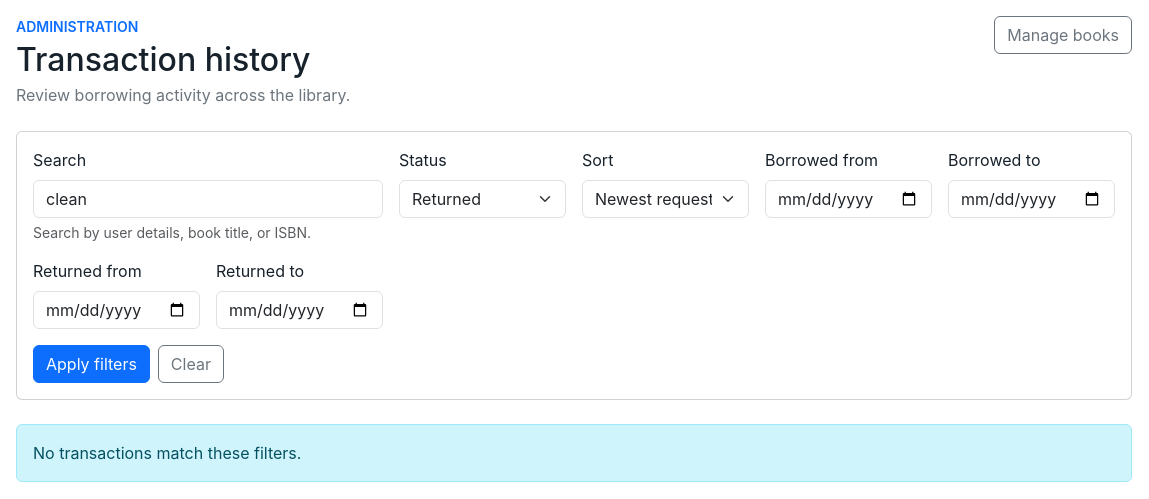
Test: AdminTransactionsComponent › clears loaded filters in both the form and the URL
The image size is (1149, 499).
Click the button "Clear". click: (191, 364)
box: [158,345,224,383]
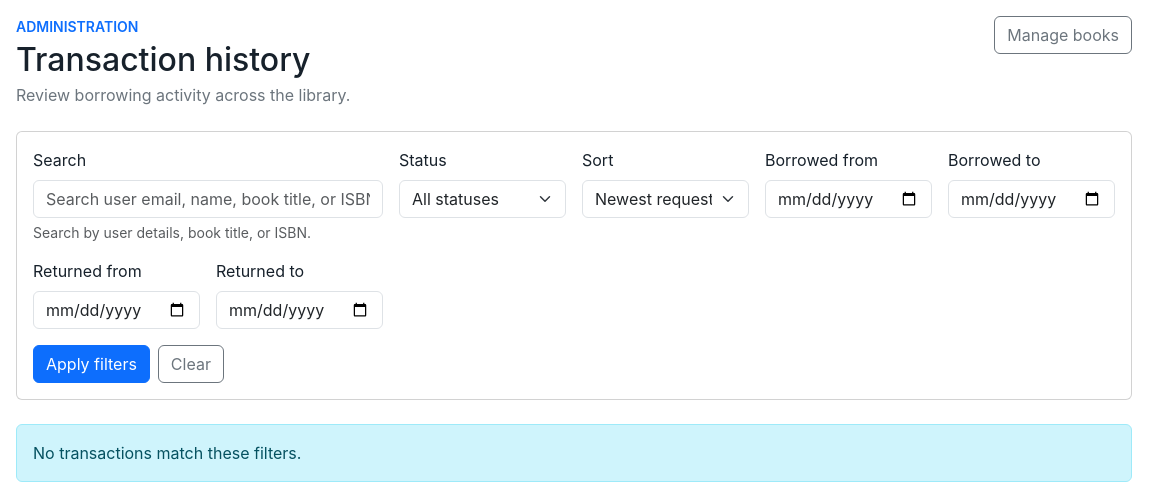
Now the dropdown with id "status" shows "All statuses", box [399,180,566,218]
Now the field with id "search" is empty, box [33,180,383,218]
